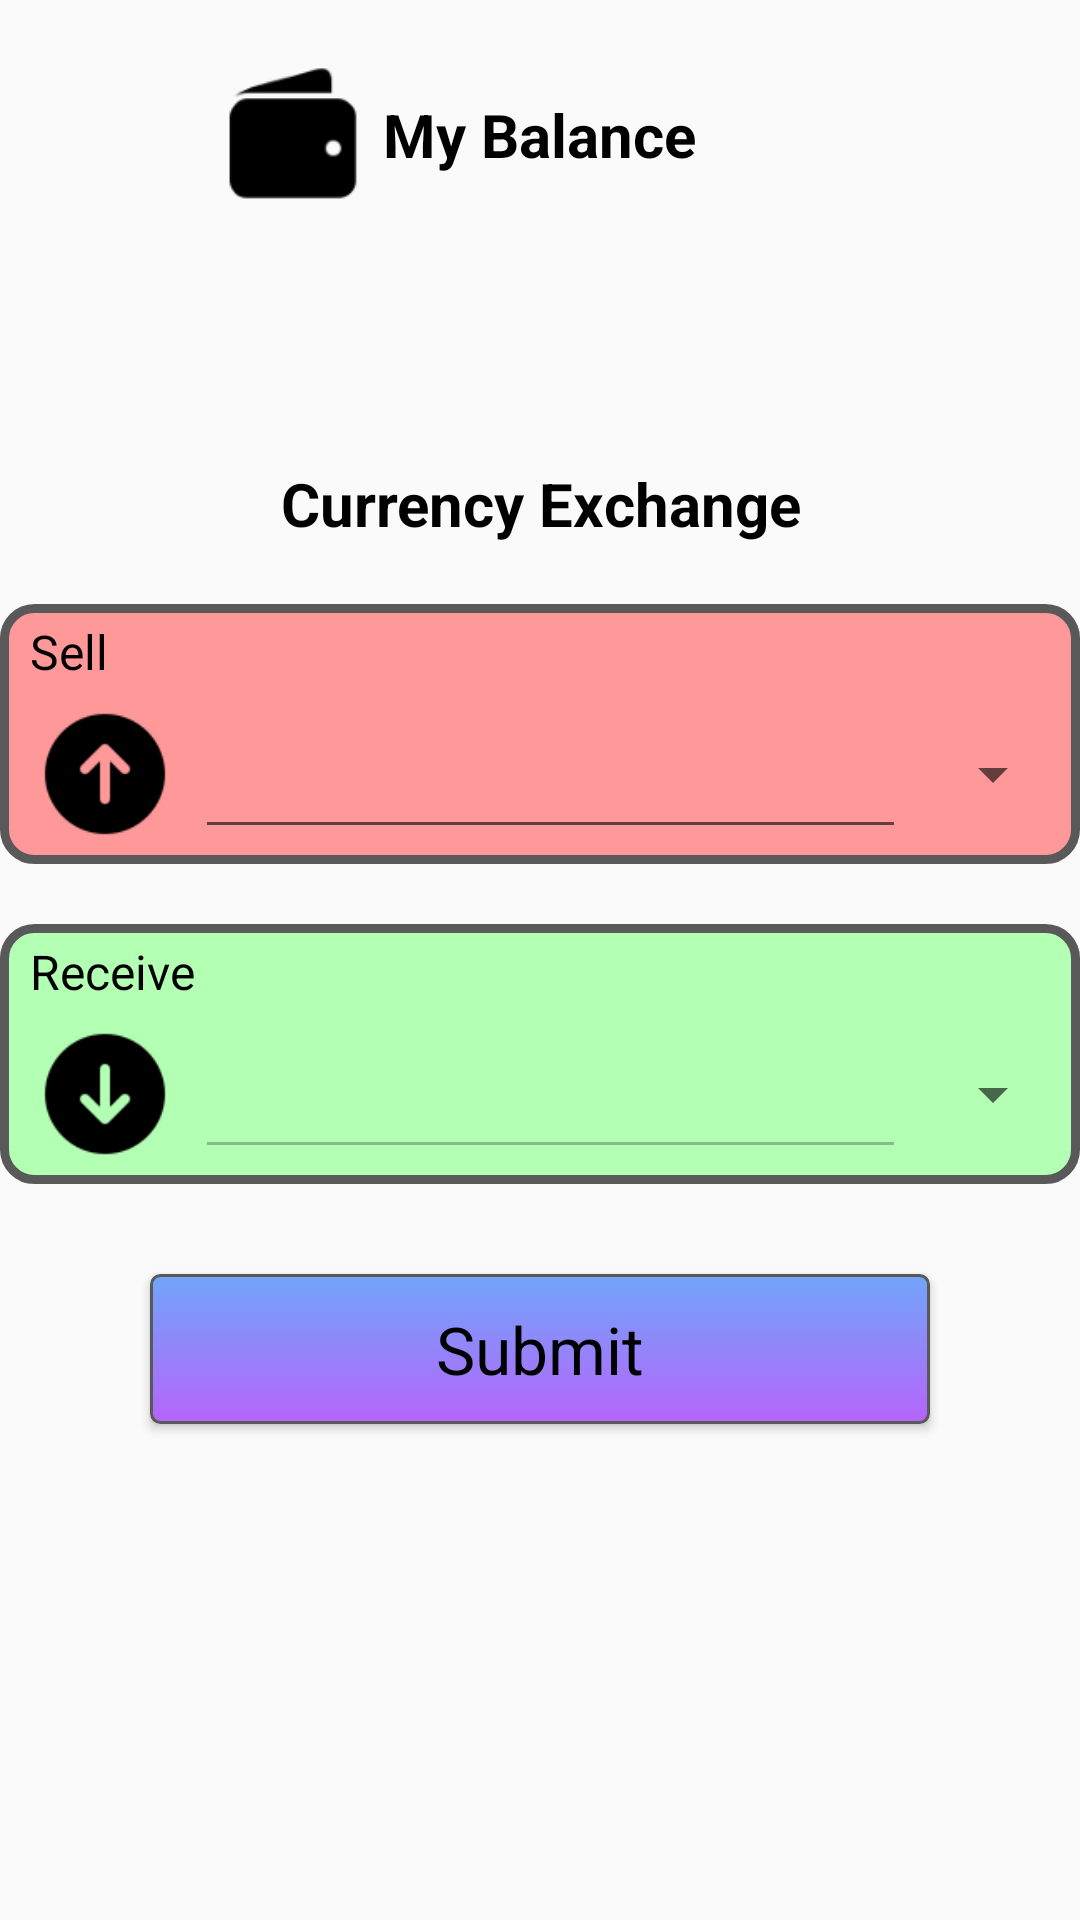

Named icons in this screenshot (1080×1920) and their bounding boxes, (x1, y1, x2, y2):
account balance: (229, 68, 357, 199)
arrow down: (44, 1033, 166, 1155)
arrow up: (44, 713, 166, 835)
